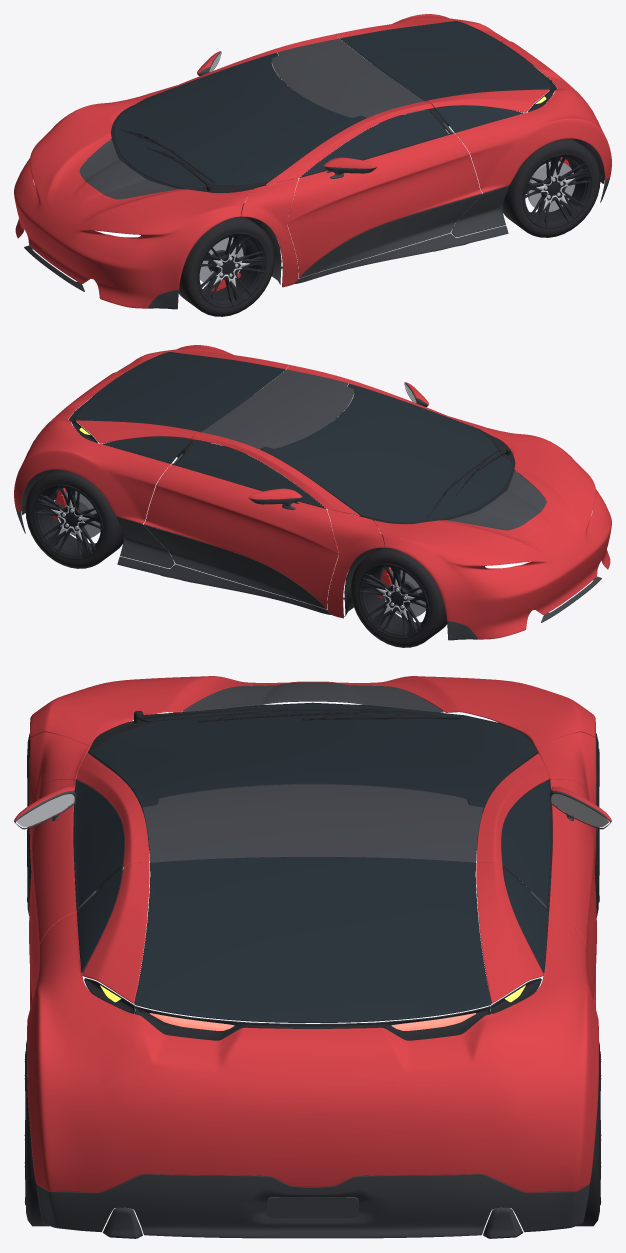
Rendered from car_concept.glb.
3 renders of one model, top to bottom at view 1: azimuth 30°, elevation 25°; view 2: azimuth 150°, elevation 25°; view 3: azimuth 270°, elevation 25°, orthographic. The views are drawn at different scales.
Parts seen in each view (by area): view 1: CarConceptExterior; view 2: CarConceptExterior; view 3: CarConceptExterior.
Boxes of the visible parts, x1,y1,x2,y2 form: CarConceptExterior: [14, 14, 611, 316]; CarConceptExterior: [14, 345, 611, 647]; CarConceptExterior: [14, 676, 611, 1238].
Bounding box in the file's own units: 4.36 × 1.15 × 2.34.
